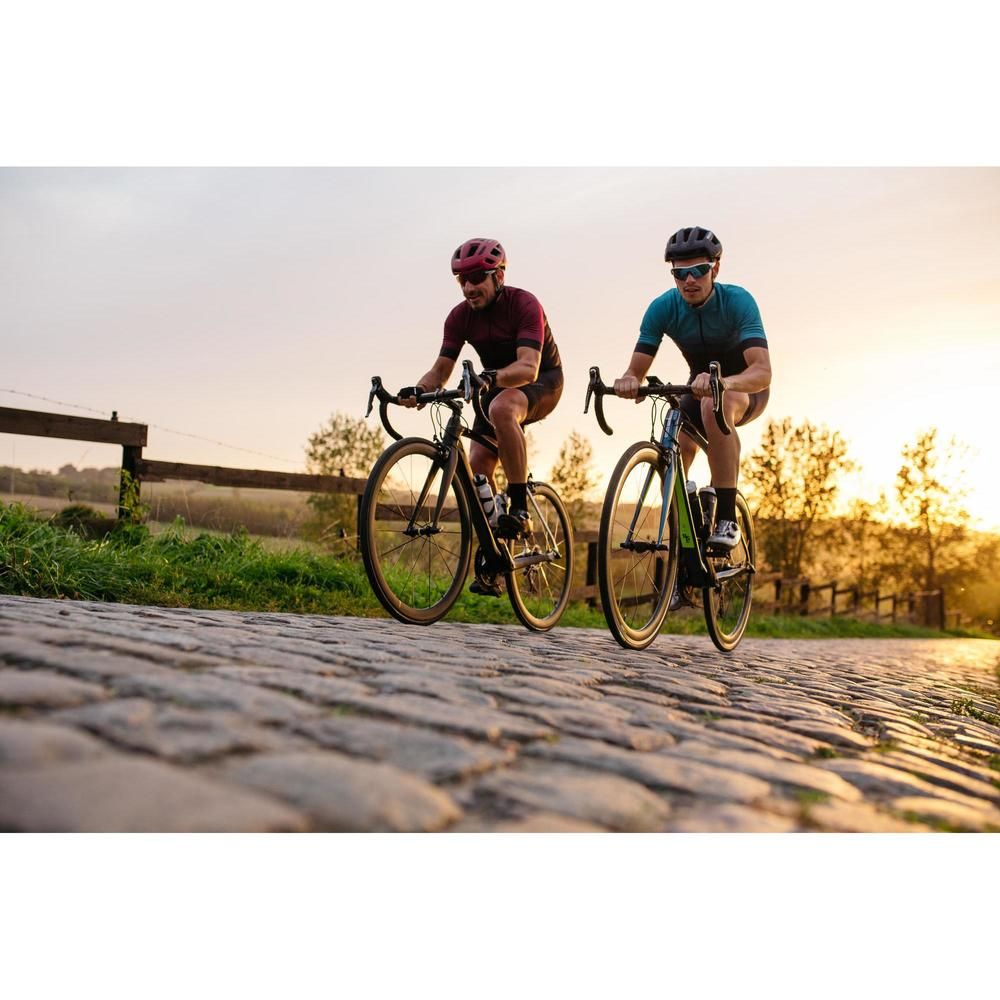RoadBike: (361, 341, 573, 634), (592, 362, 763, 658)
